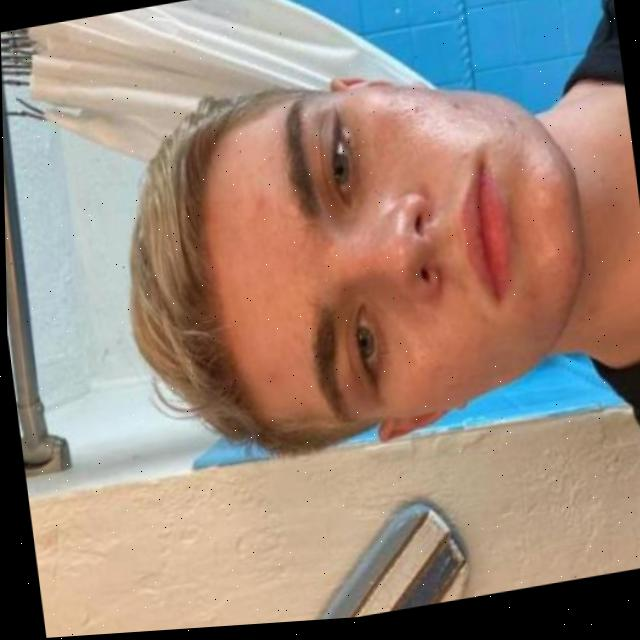Acne: (448, 98, 461, 112)
